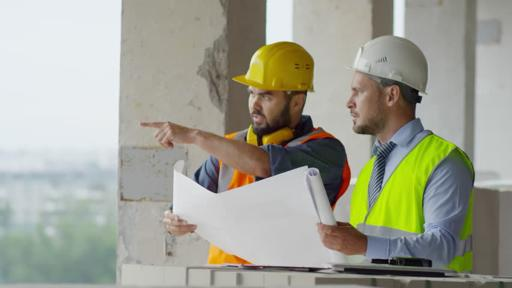safe person: (349, 28, 483, 230), (213, 27, 347, 166)
